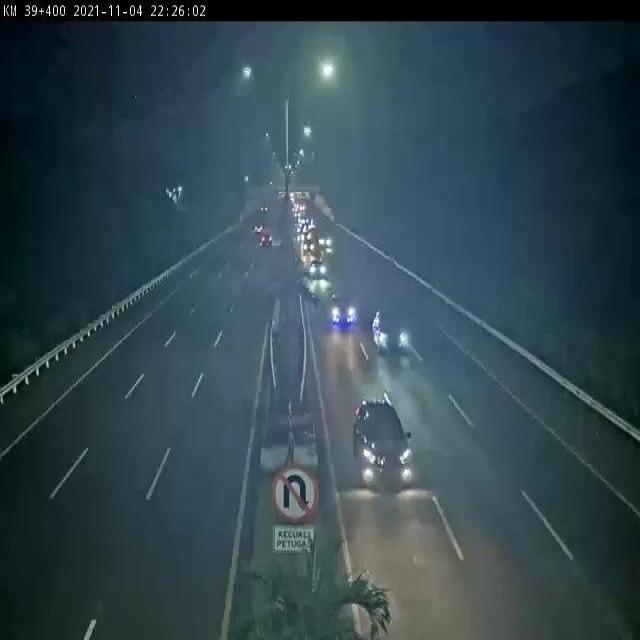car: (353, 392, 422, 499), (375, 307, 411, 361), (329, 299, 358, 328), (309, 279, 329, 300), (259, 232, 279, 249), (308, 258, 326, 274)
